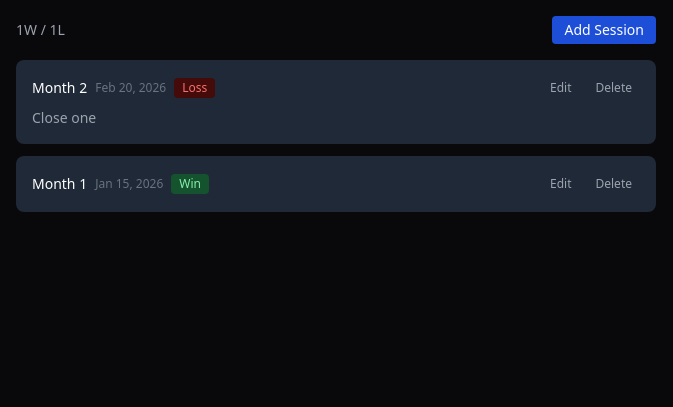
Scenario: CampaignLogPage › shows edit form when Edit is clicked
Click the button "Edit" in the row of "Loss" at (561, 88), box 542,76 -> 580,100
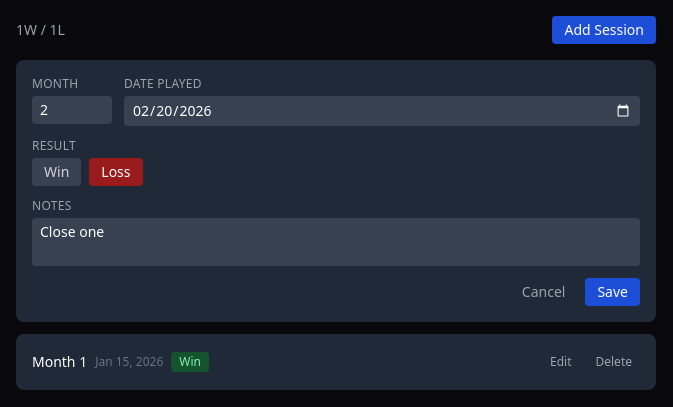
Check: the form named "edit session" is shown
